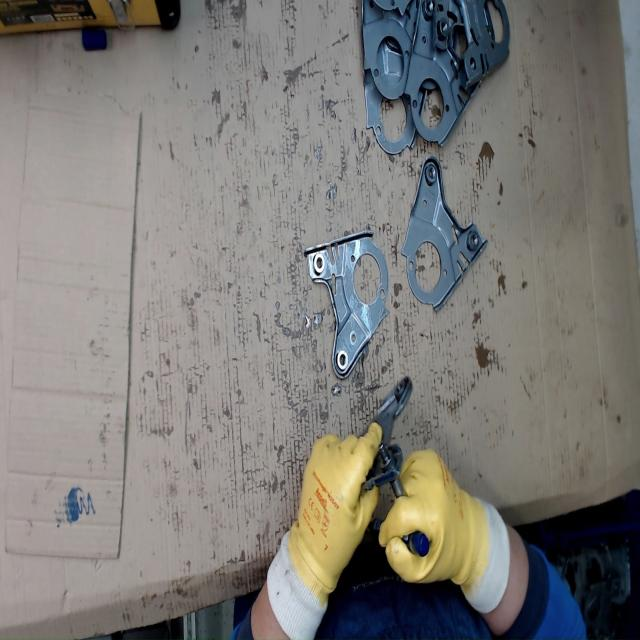hands: (290, 420, 384, 587), (378, 446, 482, 590)
